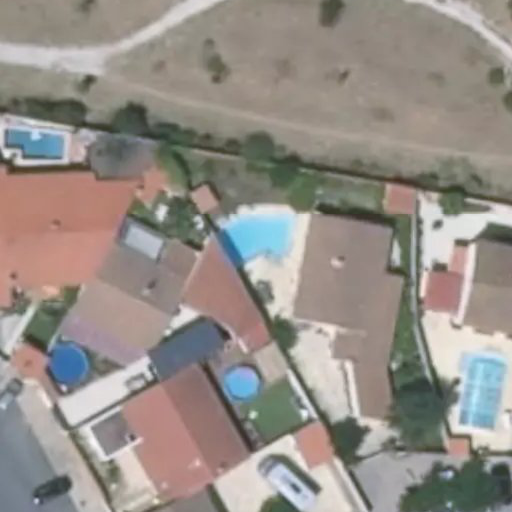pool: (215, 217, 297, 264)
